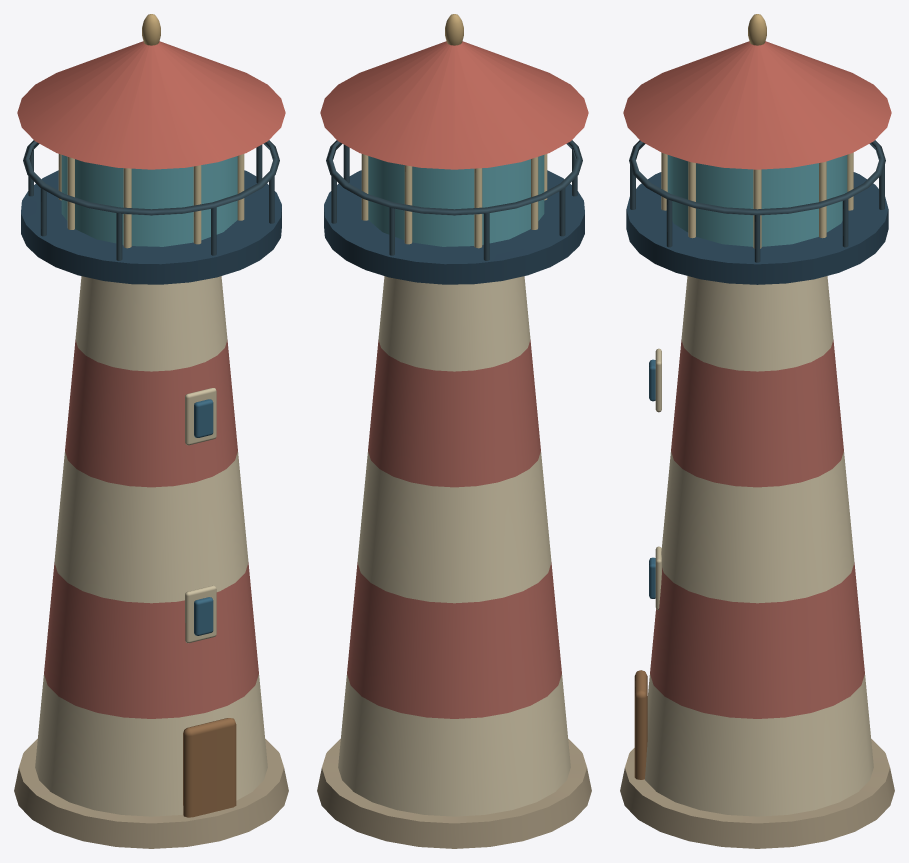
Rendered from lighthouse.glb.
The picture shows the model from 3 angles, left to right: view 1: azimuth 30°, elevation 25°; view 2: azimuth 150°, elevation 25°; view 3: azimuth 270°, elevation 25°; orthographic projection.
Bounding box in the file's own units: 1.7 × 5.3 × 1.7.
